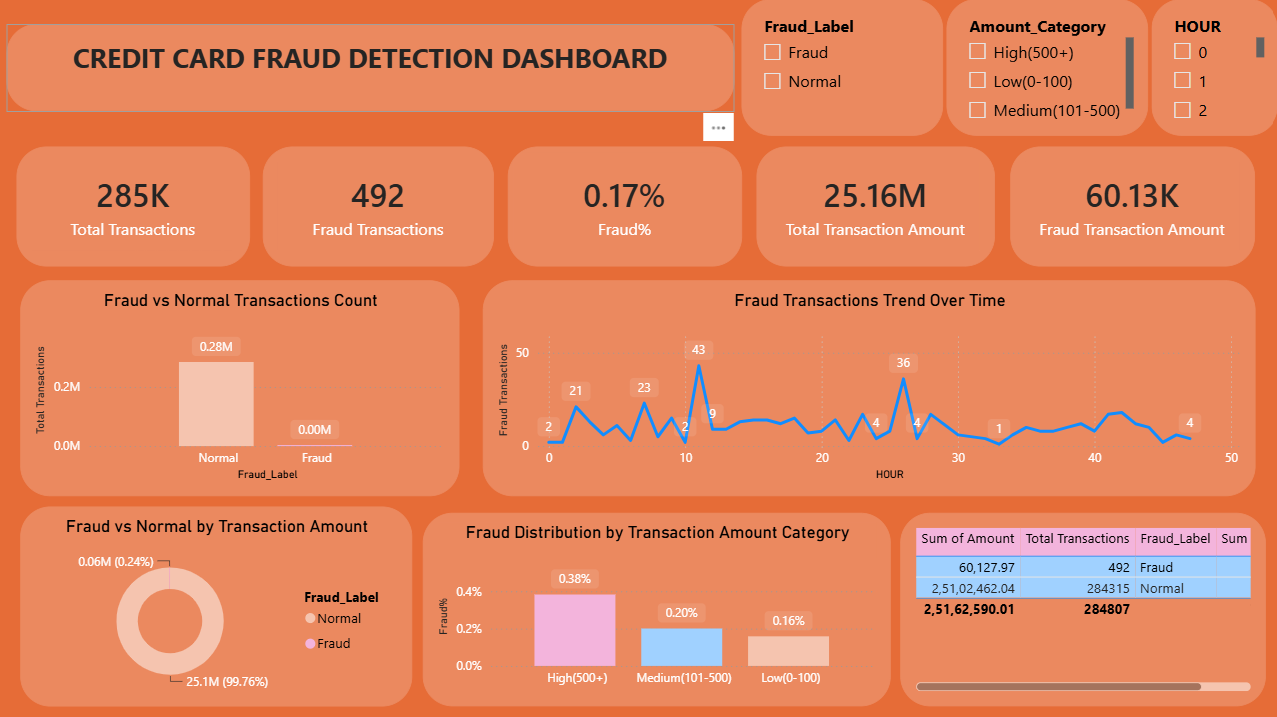

Layout of this report page (visuals, bound fields, positions):
{"tool":"powerbi","page":{"name":"Page 1","canvas":[1280,720],"ordinal":0},"visuals":[{"type":"cardVisual","fields":{"Data":["creditcard.Total Transactions"]},"box":[17.5,147.4,233.5,119.9],"z":0},{"type":"cardVisual","fields":{"Data":["creditcard.Fraud Transactions"]},"box":[263.5,147.4,231,119.9],"z":1000},{"type":"cardVisual","fields":{"Data":["creditcard.Fraud%"]},"box":[508.3,147.4,234.8,119.9],"z":2000},{"type":"cardVisual","fields":{"Data":["creditcard.Total Transaction Amount"]},"box":[758,147.4,238.5,119.9],"z":3000},{"type":"cardVisual","fields":{"Data":["creditcard.Fraud Transaction Amount"]},"box":[1011.5,147.4,244.8,119.9],"z":4000},{"type":"clusteredColumnChart","title":"Fraud vs Normal Transactions Count","fields":{"Category":["creditcard.Fraud_Label"],"Y":["creditcard.Total Transactions"]},"box":[21.2,281,439.6,216],"z":5000},{"type":"donutChart","title":"Fraud vs Normal by Transaction Amount","fields":{"Category":["creditcard.Fraud_Label"],"Y":["Sum(creditcard.Amount)"]},"box":[21.2,507,392.1,199.8],"z":6000},{"type":"lineChart","title":"Fraud Transactions Trend Over Time","fields":{"Category":["creditcard.HOUR"],"Y":["creditcard.Fraud Transactions"]},"box":[483.3,281,773,216],"z":7000},{"type":"columnChart","title":"Fraud Distribution by Transaction Amount Category","fields":{"Category":["creditcard.Amount_Category"],"Y":["creditcard.Fraud%"]},"box":[423.3,513.2,468.3,193.6],"z":8000},{"type":"tableEx","fields":{"Values":["Sum(creditcard.Amount)","creditcard.Total Transactions","creditcard.Fraud_Label","Sum(creditcard.HOUR)"]},"box":[901.6,513.2,365.9,193.6],"z":9000},{"type":"textbox","box":[7.5,25,727.6,87.1],"z":10000},{"type":"slicer","fields":{"Values":["creditcard.Fraud_Label"]},"box":[743,0,201.7,136.5],"z":11000},{"type":"slicer","fields":{"Values":["creditcard.Amount_Category"]},"box":[947.7,0,201.7,136.5],"z":12000},{"type":"slicer","fields":{"Values":["creditcard.HOUR"]},"box":[1152.4,0,127.4,136.5],"z":13000}]}

Visuals, with their boxes in screenshot pixels (x1, y1, x2, y2), scaled from the page's 1280x720 canvas onto the 1277x717 screenshot:
cardVisual - creditcard.Total Transactions: pyautogui.locateOnScreen(17, 147, 250, 266)
cardVisual - creditcard.Fraud Transactions: pyautogui.locateOnScreen(263, 147, 493, 266)
cardVisual - creditcard.Fraud%: pyautogui.locateOnScreen(507, 147, 741, 266)
cardVisual - creditcard.Total Transaction Amount: pyautogui.locateOnScreen(756, 147, 994, 266)
cardVisual - creditcard.Fraud Transaction Amount: pyautogui.locateOnScreen(1009, 147, 1253, 266)
"Fraud vs Normal Transactions Count" clusteredColumnChart: pyautogui.locateOnScreen(21, 280, 460, 495)
"Fraud vs Normal by Transaction Amount" donutChart: pyautogui.locateOnScreen(21, 505, 412, 704)
"Fraud Transactions Trend Over Time" lineChart: pyautogui.locateOnScreen(482, 280, 1253, 495)
"Fraud Distribution by Transaction Amount Category" columnChart: pyautogui.locateOnScreen(422, 511, 890, 704)
tableEx - Sum(creditcard.Amount) x creditcard.Total Transactions: pyautogui.locateOnScreen(899, 511, 1265, 704)
textbox: pyautogui.locateOnScreen(7, 25, 733, 112)
slicer - creditcard.Fraud_Label: pyautogui.locateOnScreen(741, 0, 942, 136)
slicer - creditcard.Amount_Category: pyautogui.locateOnScreen(945, 0, 1147, 136)
slicer - creditcard.HOUR: pyautogui.locateOnScreen(1150, 0, 1276, 136)
